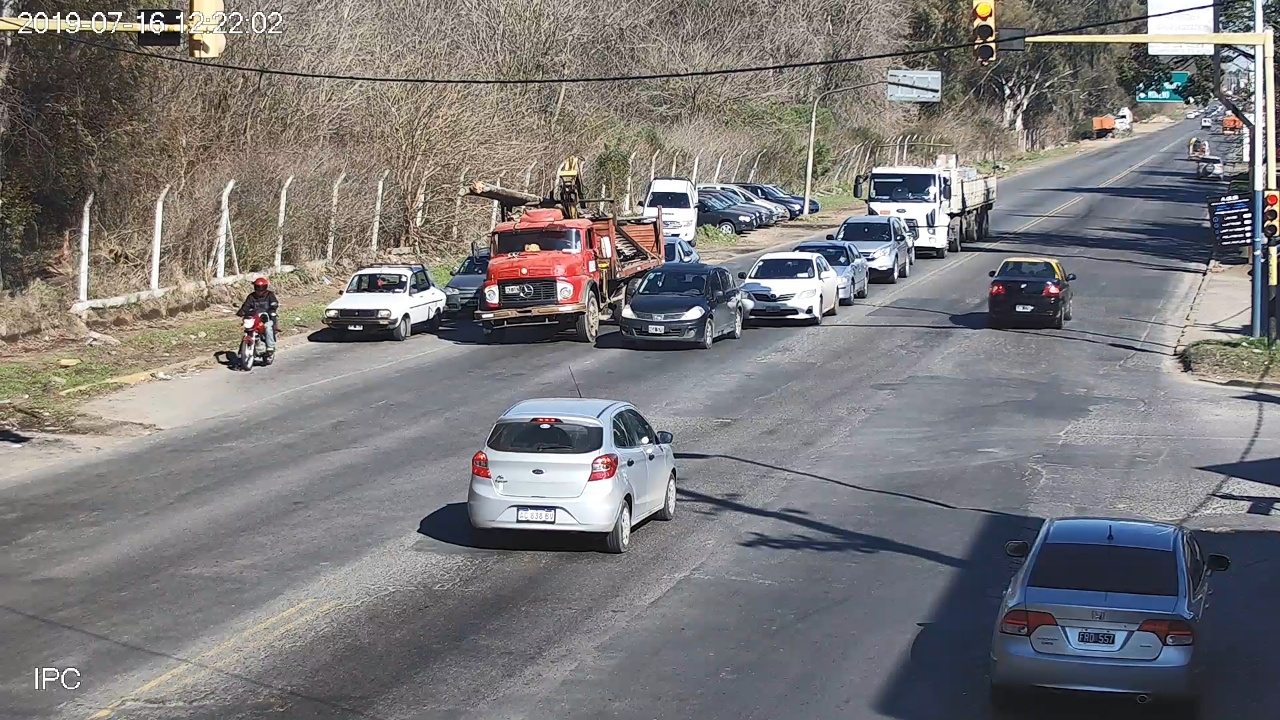car: (990, 518, 1230, 720), (468, 397, 678, 554), (989, 257, 1076, 328)
front motorcycle: (233, 295, 278, 371)
traffic light: (974, 2, 995, 60), (1265, 190, 1278, 237)
